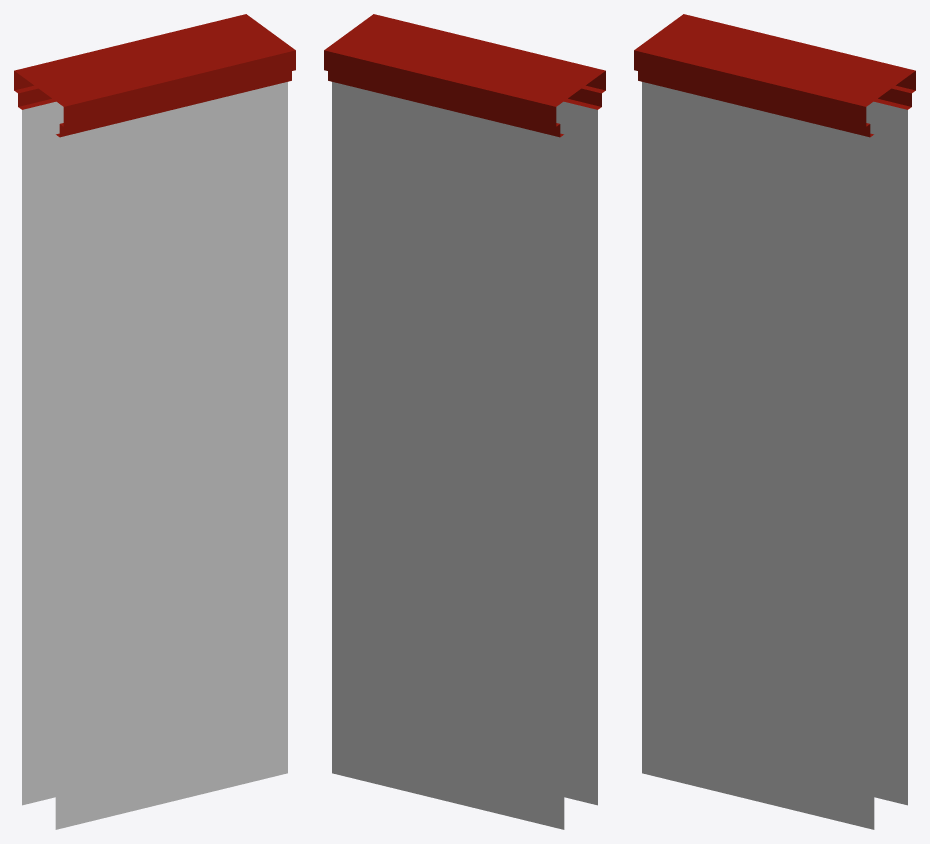
Rendered from SM_Wall_Straight_1x3_01.fbx.
3 views of the same model, side by side, from view 1: azimuth 30°, elevation 25°; view 2: azimuth 150°, elevation 25°; view 3: azimuth 330°, elevation 25° (orthographic).
Parts seen in each view (by area): view 1: SM_Wall_Straight_1x3_01; view 2: SM_Wall_Straight_1x3_01; view 3: SM_Wall_Straight_1x3_01.
Boxes of the visible parts, x1,y1,x2,y2 form: SM_Wall_Straight_1x3_01: (14,14,295,829); SM_Wall_Straight_1x3_01: (324,14,605,829); SM_Wall_Straight_1x3_01: (634,14,915,829).
Size of the model in its own units: 39.37 by 118 by 14.57.
